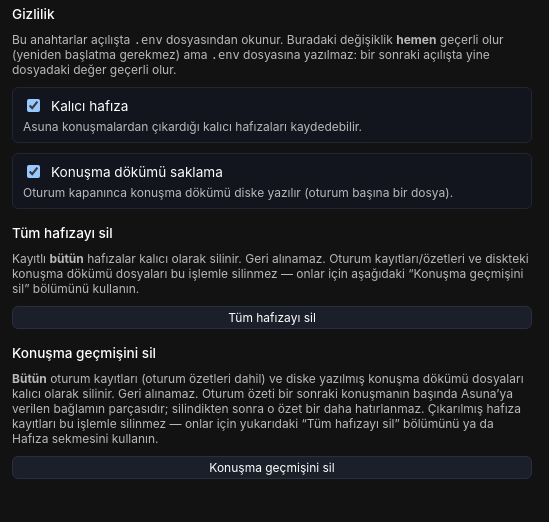
Scenario: SettingsView — tum hafizayi sil › tek tikla silmez: once niyet, sonra birebir ifade ister
Click the button "Tüm hafızayı sil" at (272, 318), box [12,306,532,329]
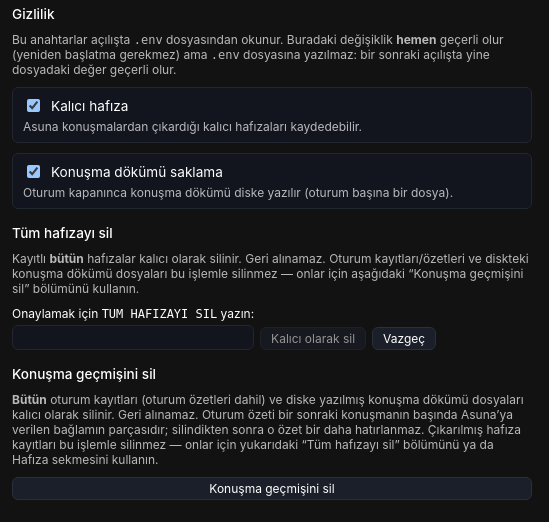
Now the button "Kalıcı olarak sil" is disabled, box [260,327,366,350]
Type "tum hafizayi sil" into the field at (133, 338), box [12,325,254,350]
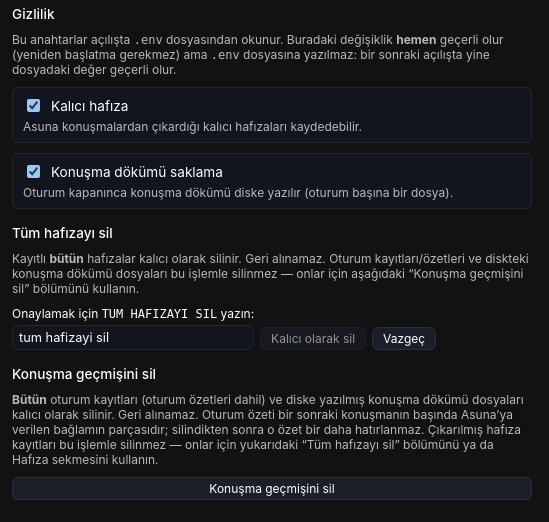
Now the button "Kalıcı olarak sil" is disabled, box [260,327,366,350]
Replace the text in the field with "TUM HAFIZAYI SIL" at (133, 338), box [12,325,254,350]
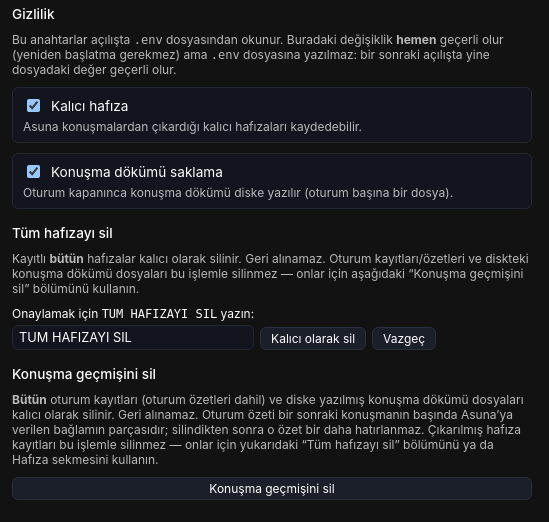
Now the button "Kalıcı olarak sil" is enabled
Click the button "Kalıcı olarak sil" at (313, 338), box [260,327,366,350]
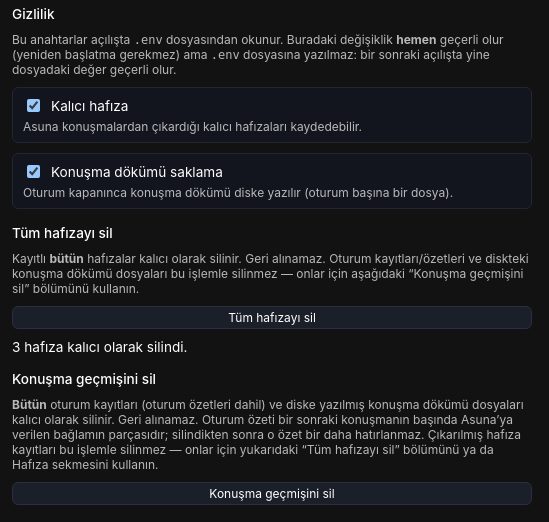
Now the message reads "3 hafıza kalıcı olarak silindi.", box [12,339,188,355]
